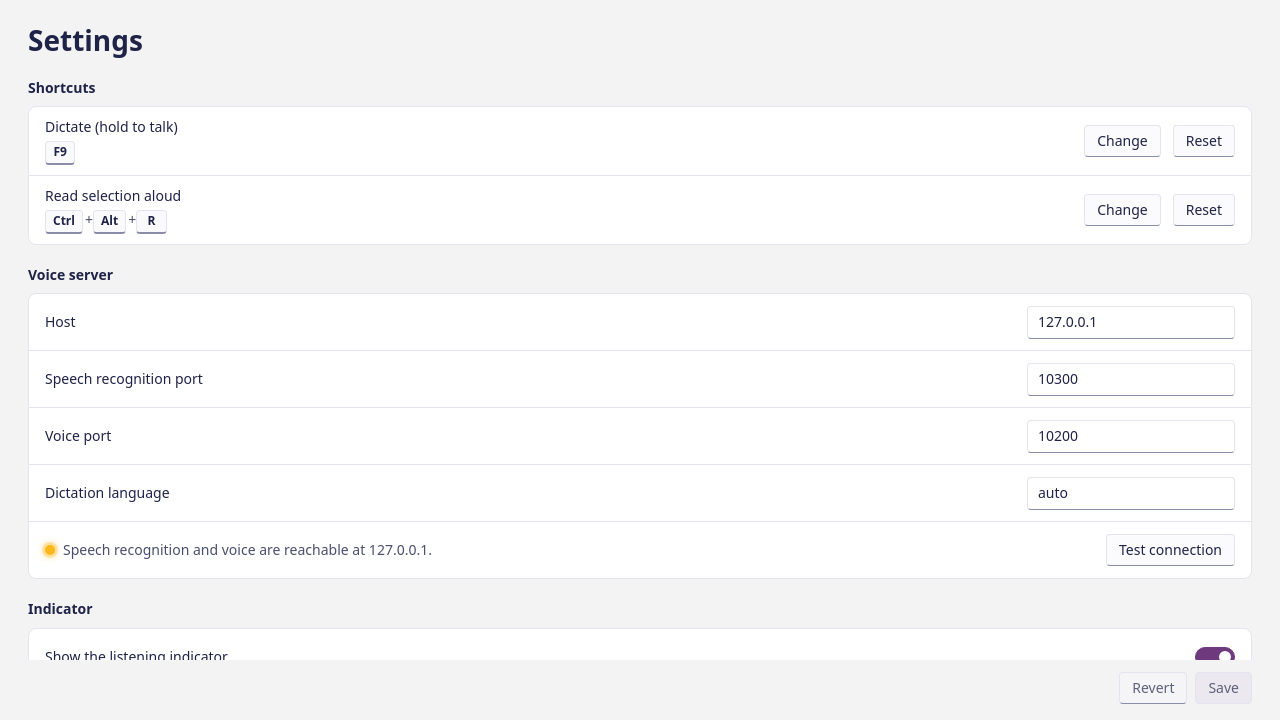
Scenario: SettingsWindow shortcuts › shows a failure to suspend the global shortcuts
Click the button "Change" in the row of "Dictate (hold to talk)" at (1122, 141), box [1084, 125, 1161, 157]
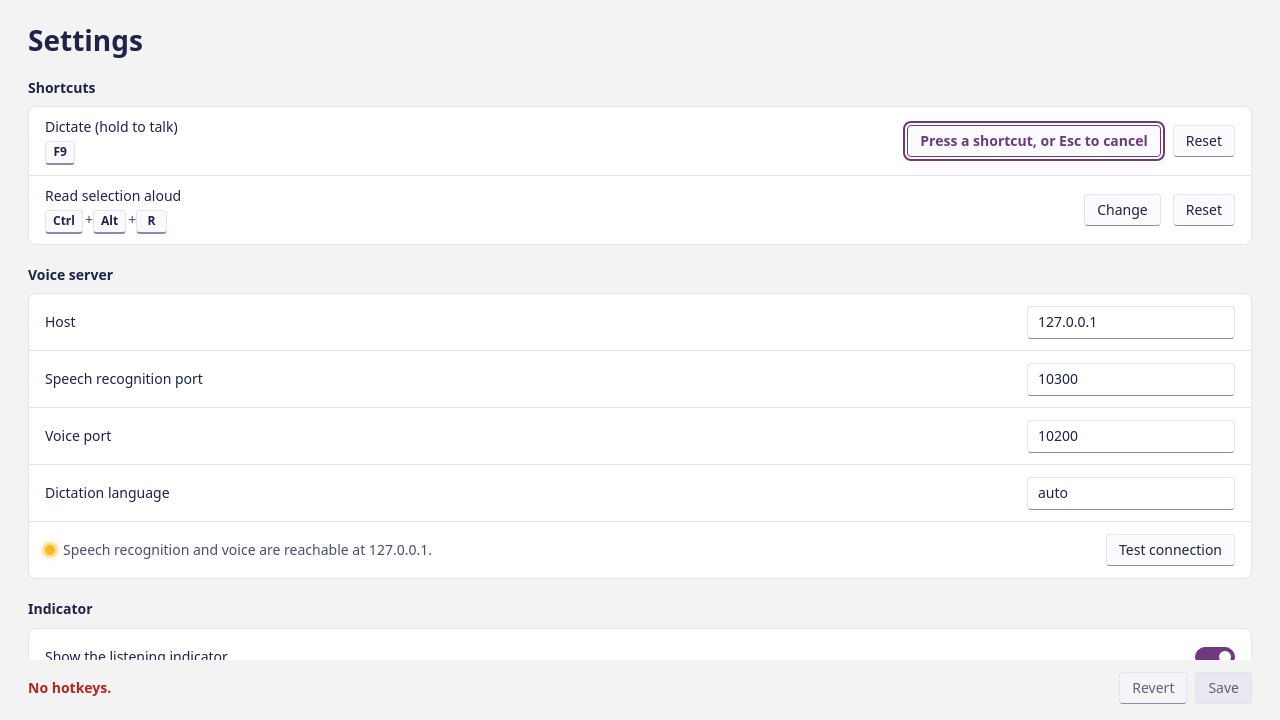
Check: the message "No hotkeys." is shown, box [28, 678, 111, 697]
